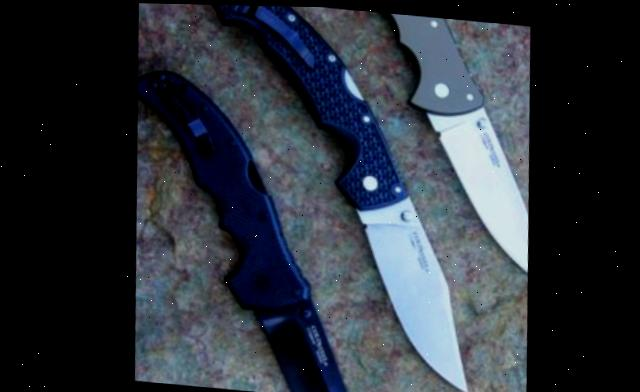pocket-knife: (185, 3, 493, 392), (114, 56, 404, 392), (284, 5, 542, 279)
